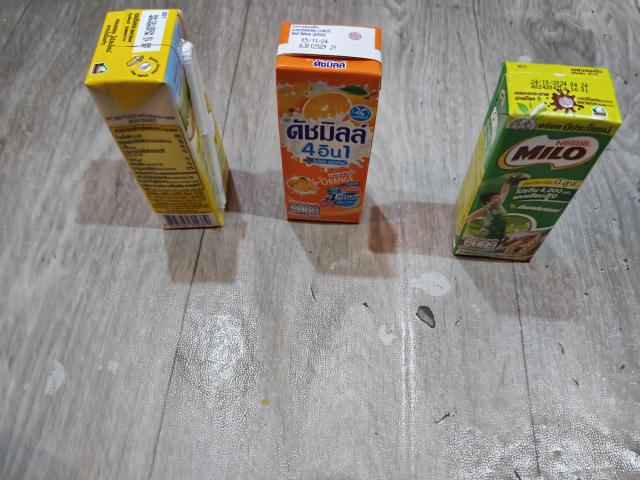drink_box: (446, 55, 626, 267), (78, 5, 241, 238), (274, 16, 389, 229)
